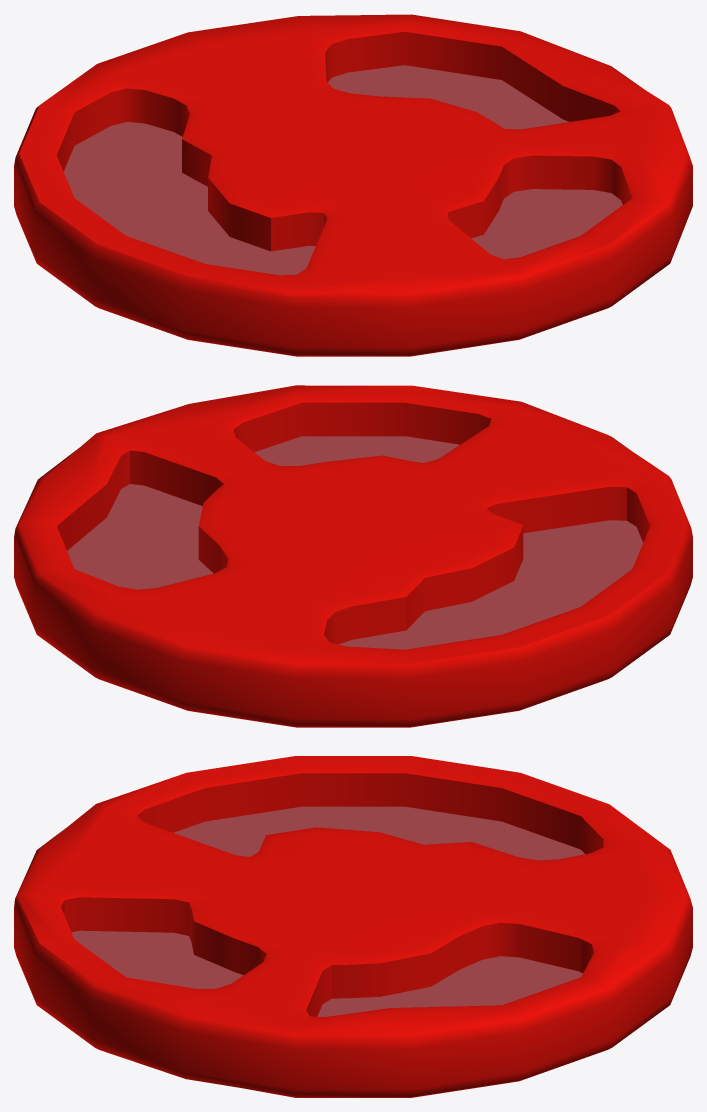
Rendered from Tomatoe_slice.fbx.
3 views of the same model, one above another, from view 1: azimuth 30°, elevation 25°; view 2: azimuth 150°, elevation 25°; view 3: azimuth 270°, elevation 25° (orthographic).
Parts seen in each view (by area): view 1: Tomatoe_slice; view 2: Tomatoe_slice; view 3: Tomatoe_slice.
Part boxes in pixels (x1,y1,x2,y2): Tomatoe_slice: (14, 14, 692, 356); Tomatoe_slice: (14, 385, 692, 727); Tomatoe_slice: (14, 756, 692, 1097).
Size of the model in its own units: 77.27 by 8.29 by 78.46.
